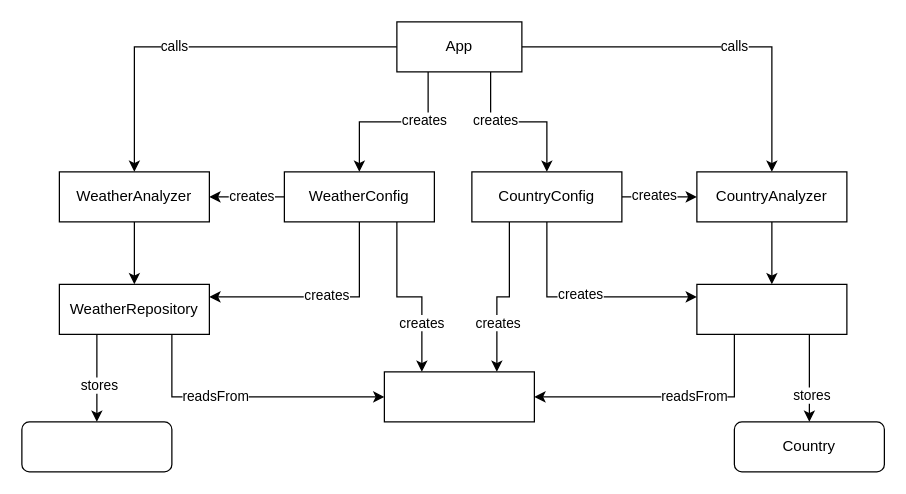
Some shapes in this 906 by 494 pixel diagram are drawn without their labels. Here are the shapes that lost their labels. From the top down, the centre of each, then its label:
pixel 771 308: CountryRepository
pixel 458 396: FileHandler
pixel 96 446: Weather
